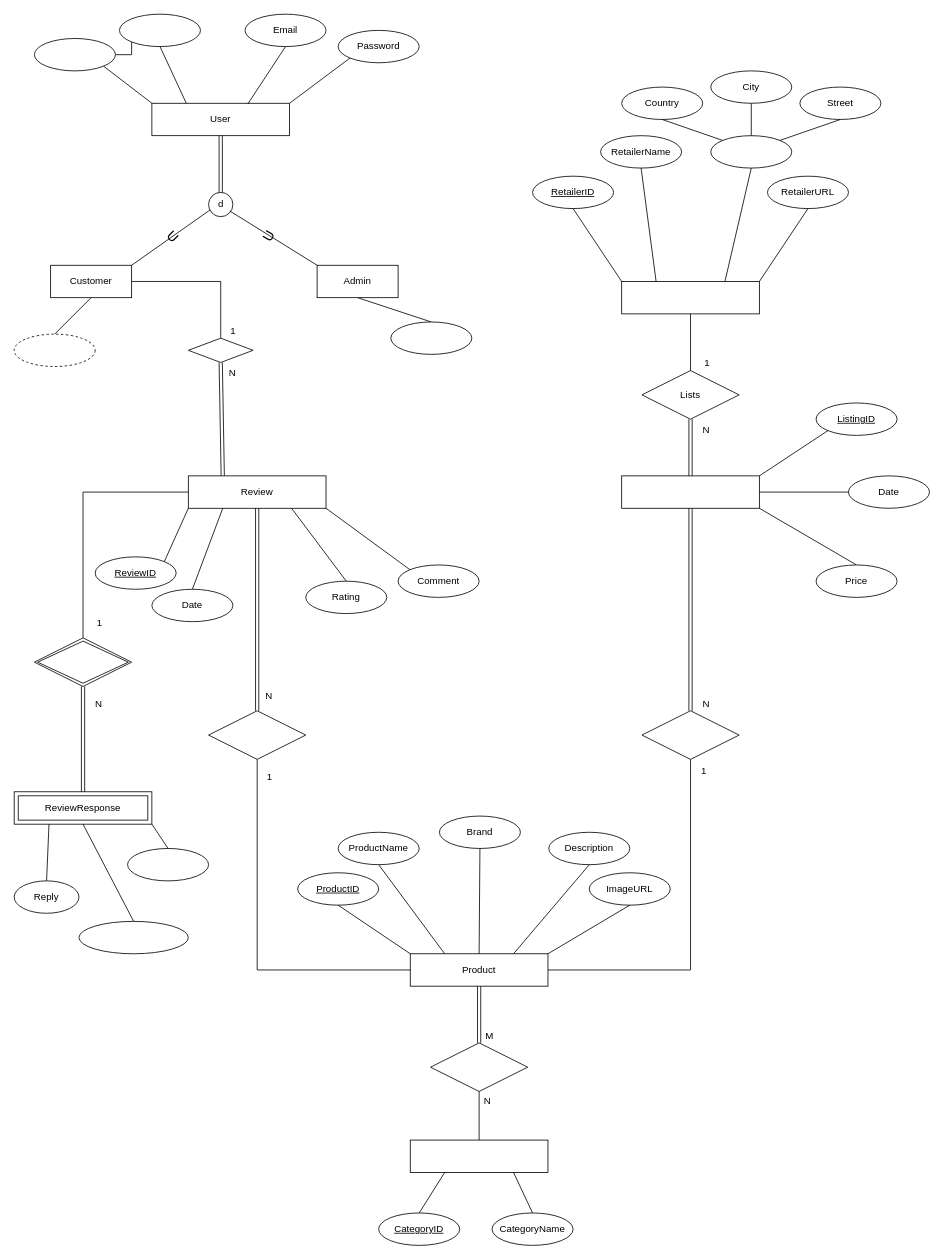
The diagram is 944 pixels wide and 1260 high, and some of its shapes have lost their labels. The centre of each missing label's shape, as x and y in pixels:
"Access Level" belongs at (x=431, y=337).
"Address" belongs at (x=751, y=151).
"Belongs_To" belongs at (x=479, y=1066).
"Category" belongs at (x=478, y=1155).
"Evaluates" belongs at (x=257, y=734).
"Gives" belongs at (x=220, y=349).
"has" belongs at (x=83, y=661).
"Involves" belongs at (x=690, y=734).
"Listing" belongs at (x=690, y=491).
"ResponderName" belongs at (x=168, y=864).
"ResponseNumber" belongs at (x=133, y=937).
"Retailer" belongs at (x=690, y=297).
"ReviewCount" belongs at (x=54, y=350).
"UserID" belongs at (x=74, y=54).
"UserName" belongs at (x=159, y=30).
